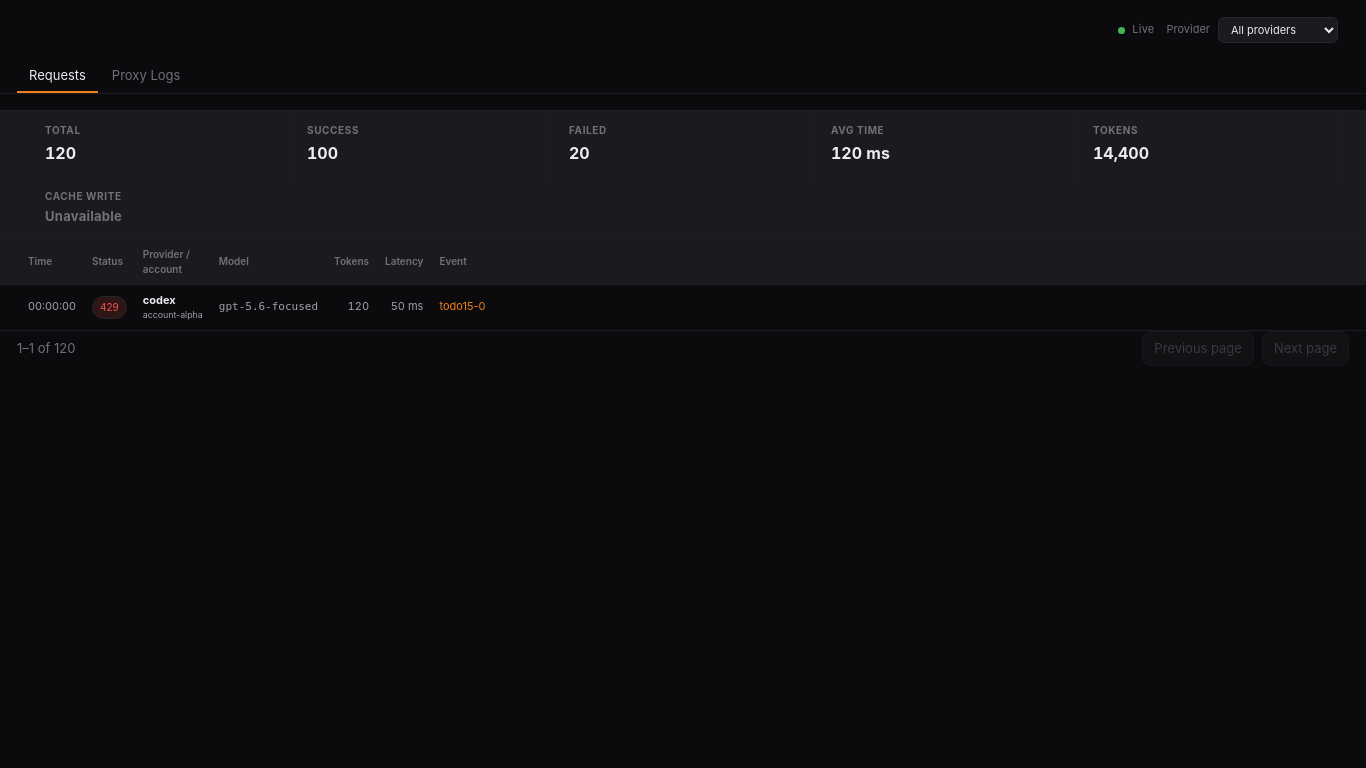
Scenario: Durable Logs presentation contract › loads a selectable request detail
Step 1. Click the button with aria-label "View todo15-0 details" → click(462, 306), box [439, 299, 1338, 315]
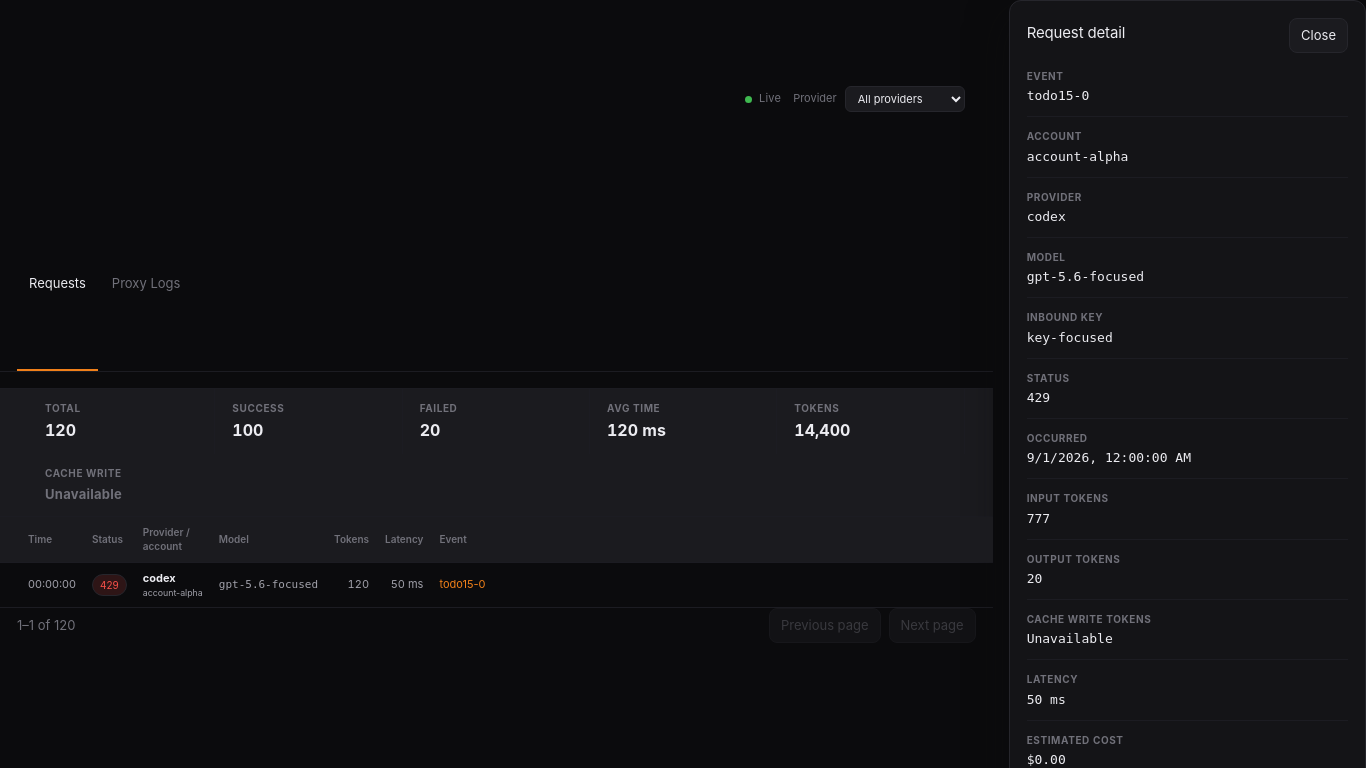
Result: the text "777" is shown at [1027, 511, 1050, 526]
Result: the text "Estimated cost" is shown at [1027, 734, 1124, 746]
